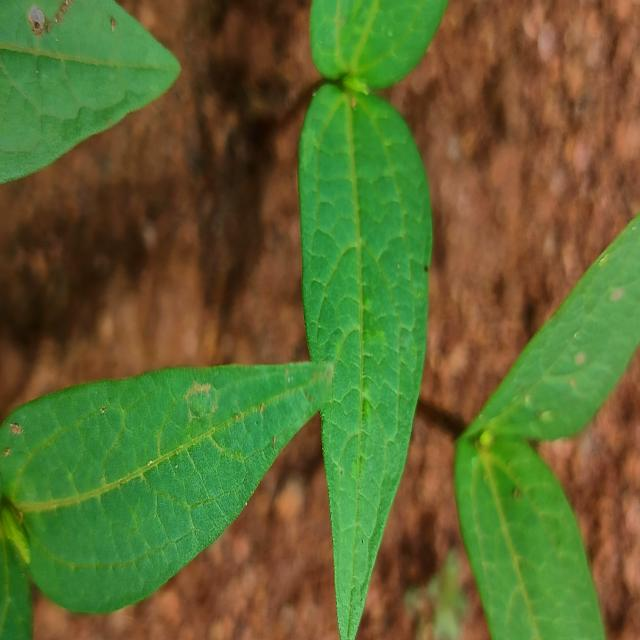Black gram_healthy: (0, 363, 330, 612), (301, 83, 432, 640), (466, 197, 640, 431), (0, 0, 179, 191), (456, 435, 607, 640)
